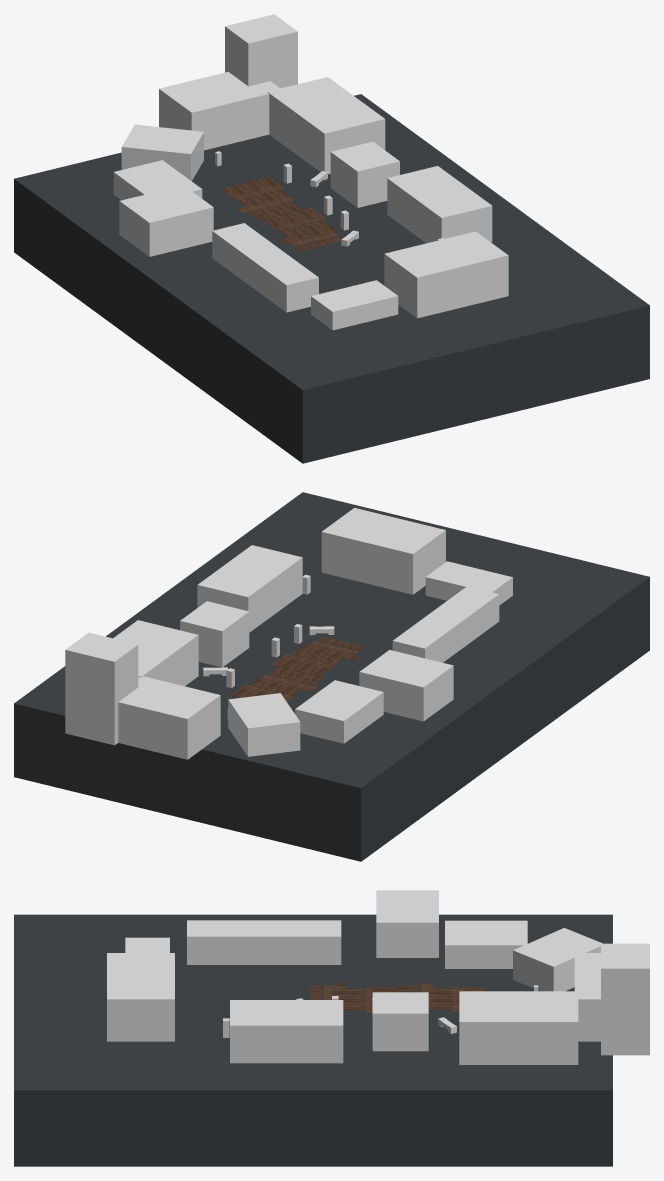
Rendered from Stage.FBX.
The picture shows the model from 3 angles, top to bottom: view 1: azimuth 30°, elevation 25°; view 2: azimuth 150°, elevation 25°; view 3: azimuth 270°, elevation 25°; orthographic projection. The views are drawn at different scales.
Parts seen in each view (by area): view 1: Box001, Box002; view 2: Box001, Box002; view 3: Box001, Box002.
Part boxes in pixels (box(x1,y1,x2,y2)): Box001: box(14, 94, 649, 463); Box002: box(113, 14, 508, 330); Box001: box(14, 492, 649, 861); Box002: box(65, 508, 512, 759); Box001: box(14, 914, 612, 1166); Box002: box(107, 890, 649, 1064).
Bounding box in the file's own units: 4604 × 7042 × 1992.
3 materials, 3 textured.
